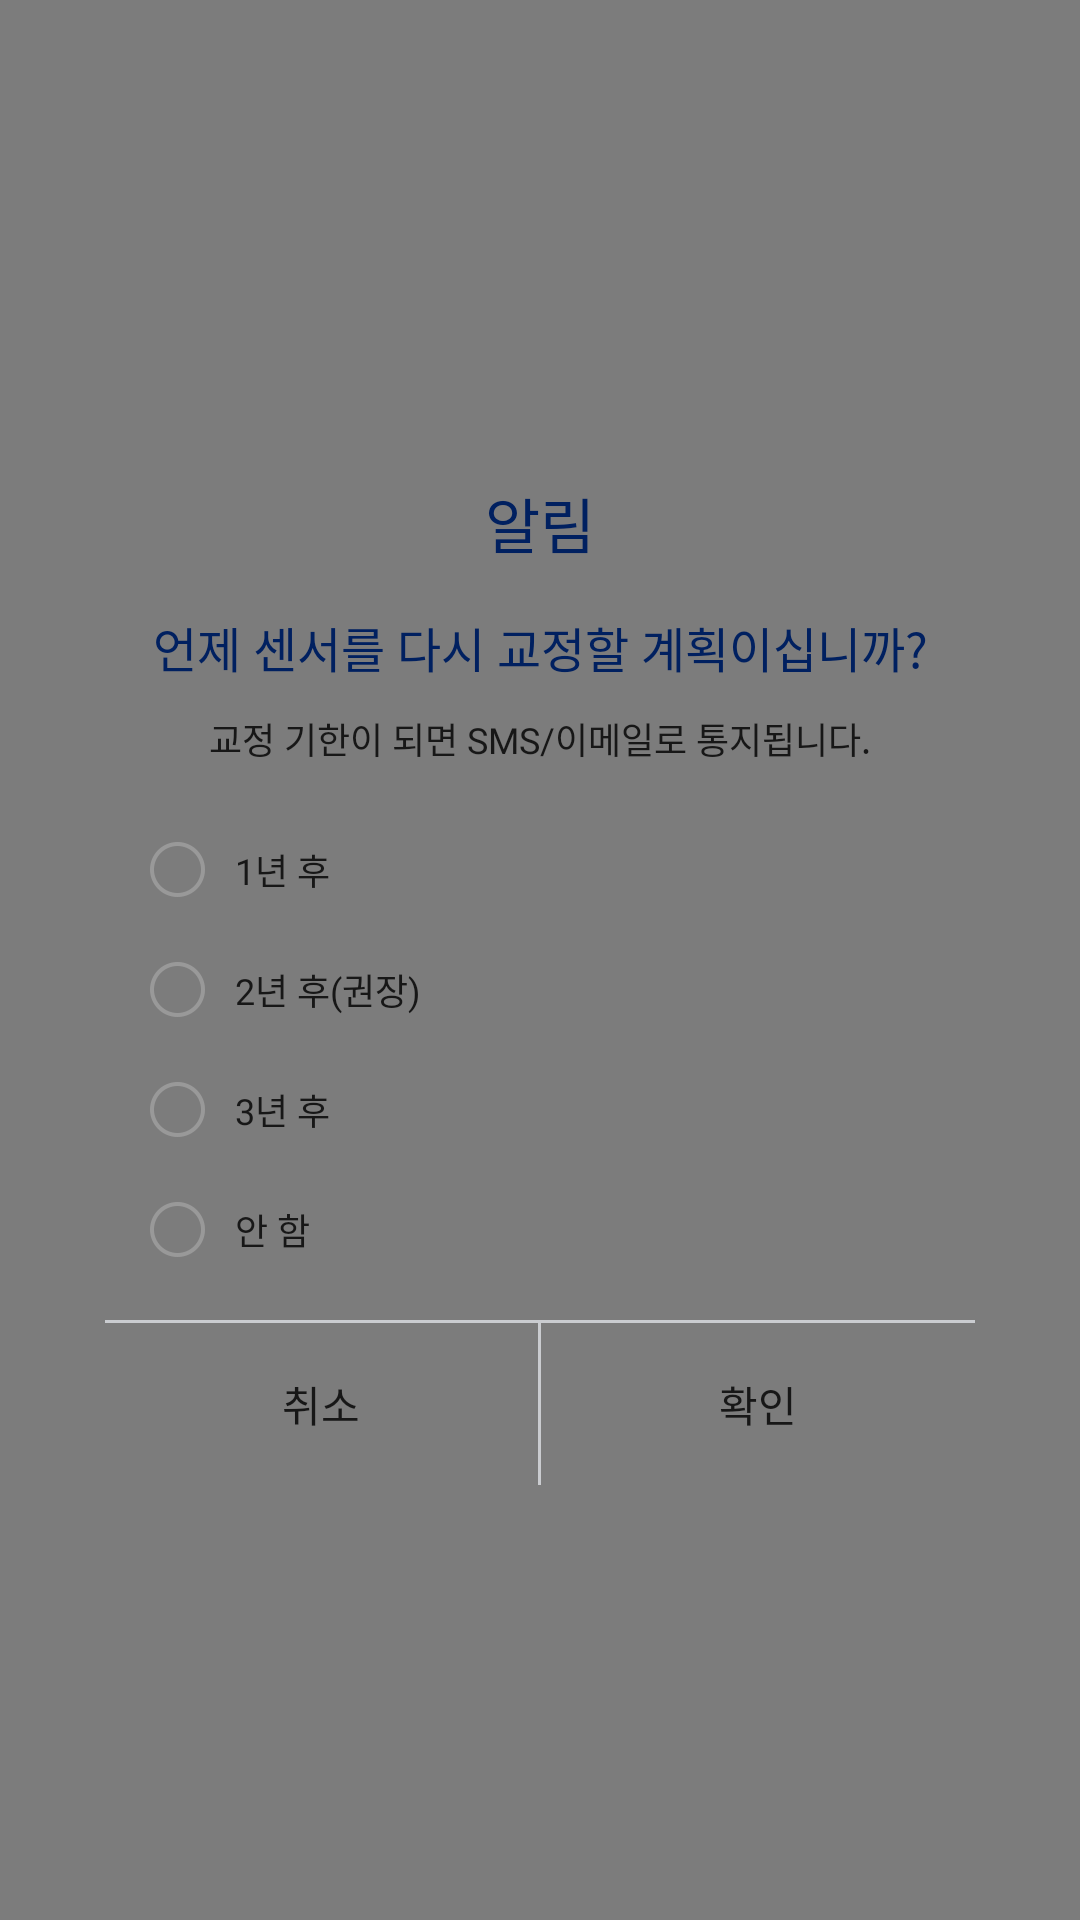

Icons on this 1080 x 1920 Android screen, each with its box as (x1, y1, x2, y2):
option off: (150, 842, 205, 897), (150, 962, 205, 1017), (150, 1082, 205, 1137), (150, 1202, 205, 1257)
